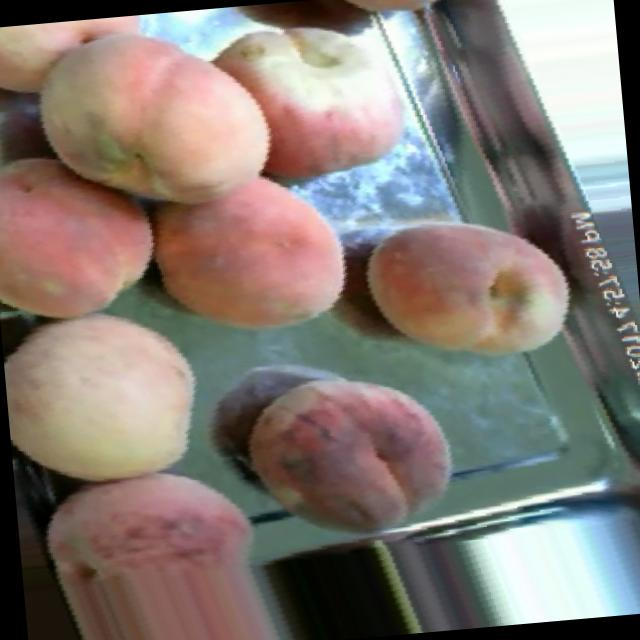Fruit: (0, 2, 302, 251), (12, 448, 316, 640), (214, 347, 476, 568), (338, 182, 599, 391), (191, 0, 432, 215), (120, 162, 372, 364), (0, 298, 226, 494), (289, 0, 510, 49)
